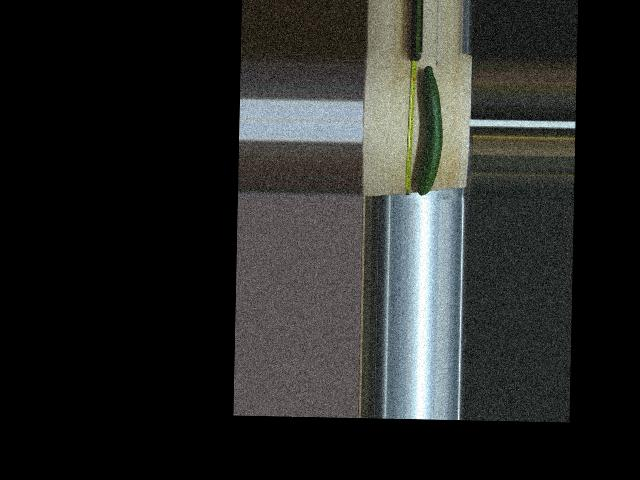cucumber: (415, 65, 443, 195)
